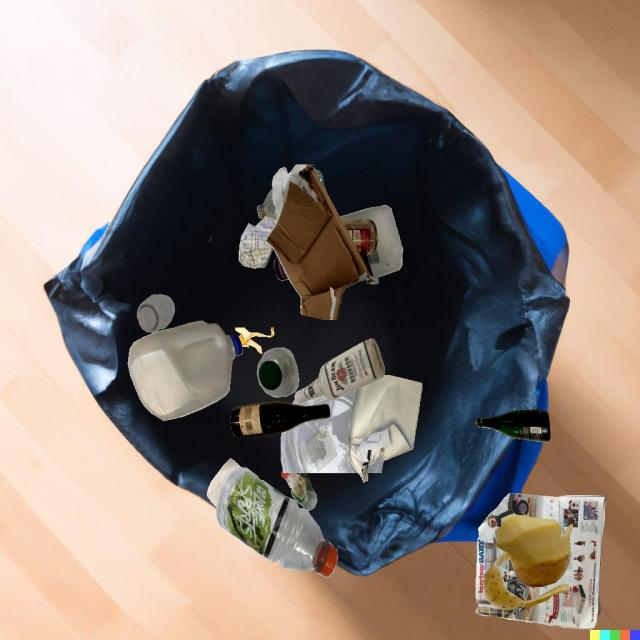biowaste: (484, 513, 573, 610), (235, 327, 274, 354)
cardboard: (266, 164, 379, 320)
glass: (295, 339, 385, 404), (230, 401, 330, 438), (476, 409, 550, 442), (137, 294, 175, 333), (341, 219, 378, 255)
paper: (476, 493, 606, 629), (349, 375, 422, 482), (239, 216, 276, 268), (207, 458, 240, 507)
plastic: (216, 467, 338, 577), (128, 320, 243, 421), (281, 390, 358, 473), (340, 205, 403, 278), (289, 220, 358, 282), (257, 347, 299, 397), (281, 469, 317, 511), (257, 189, 277, 220), (272, 187, 273, 190)
